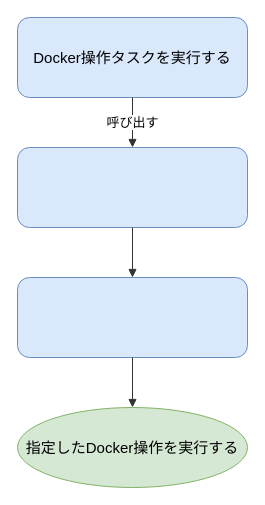
Some shapes in this 265 by 505 pixel diagram are drawn without their labels. Here are the shapes that lost their labels. From the top down, the box of each, then its label:
(16, 146, 248, 228): ホストUID・GIDを取得する
(16, 276, 248, 358): Docker Composeを呼び出す
